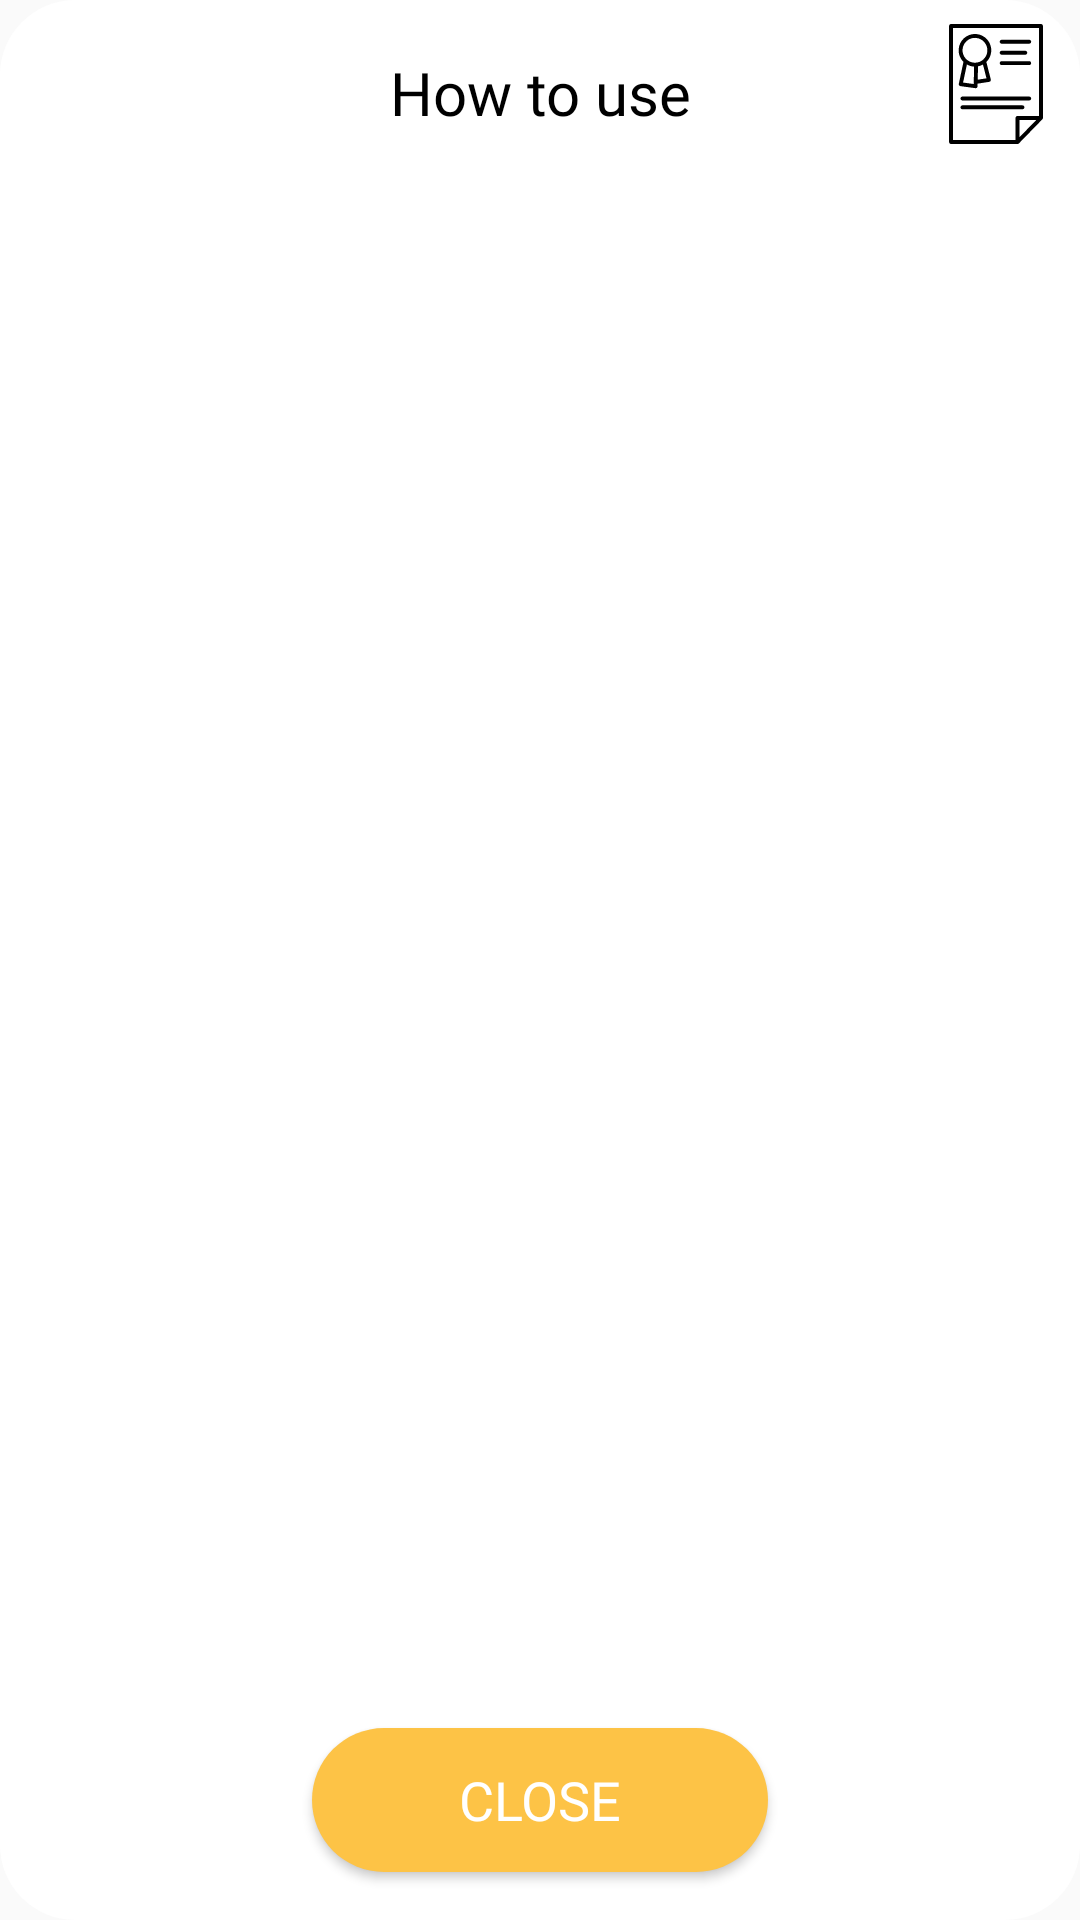

Screen size 1080 × 1920. Icon name, then its center in pixels as (x=x, y=y):
license: (x=996, y=84)
